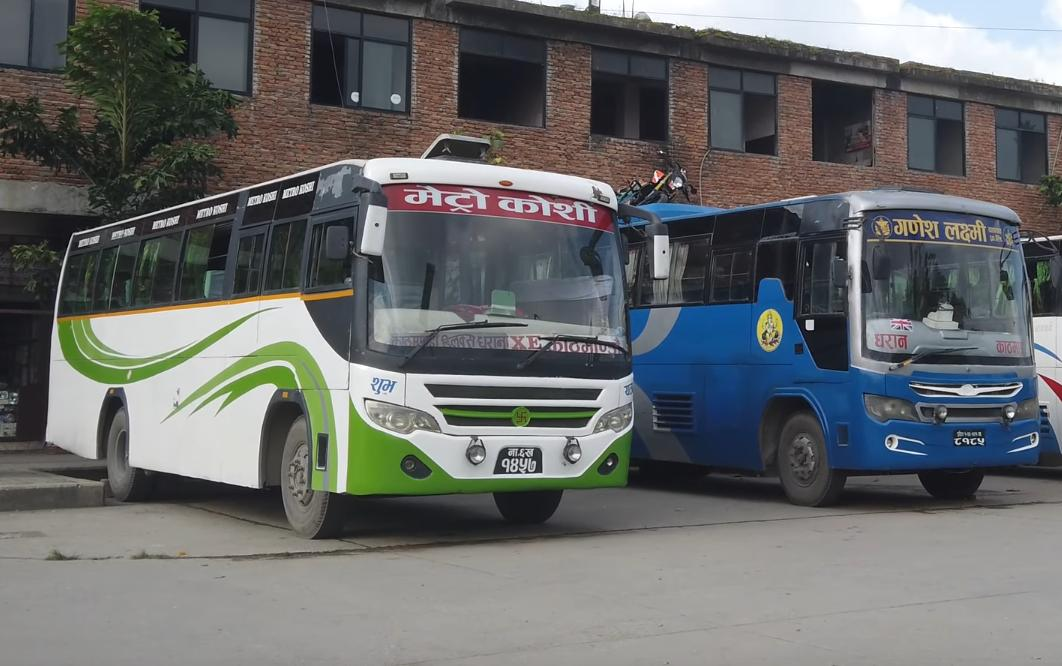bus: (40, 139, 645, 548), (623, 181, 1051, 523)
